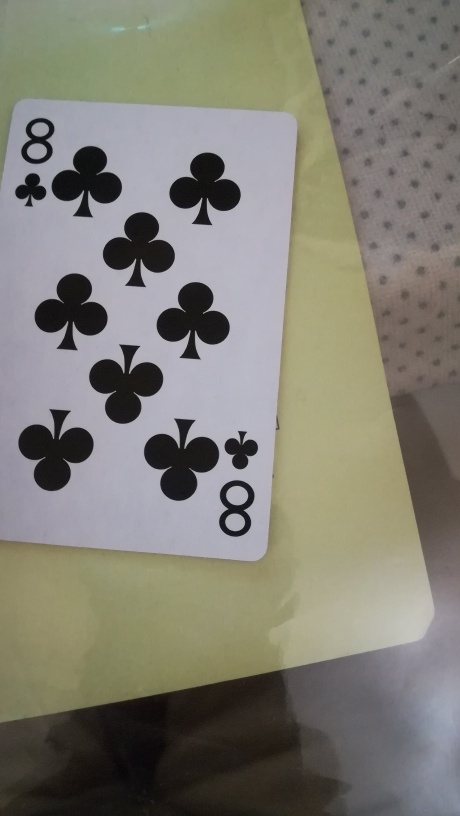mh 8: (5, 95, 298, 571)
